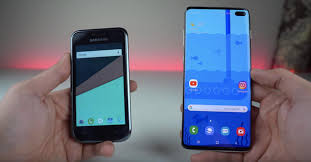samsung: (180, 3, 253, 155)
